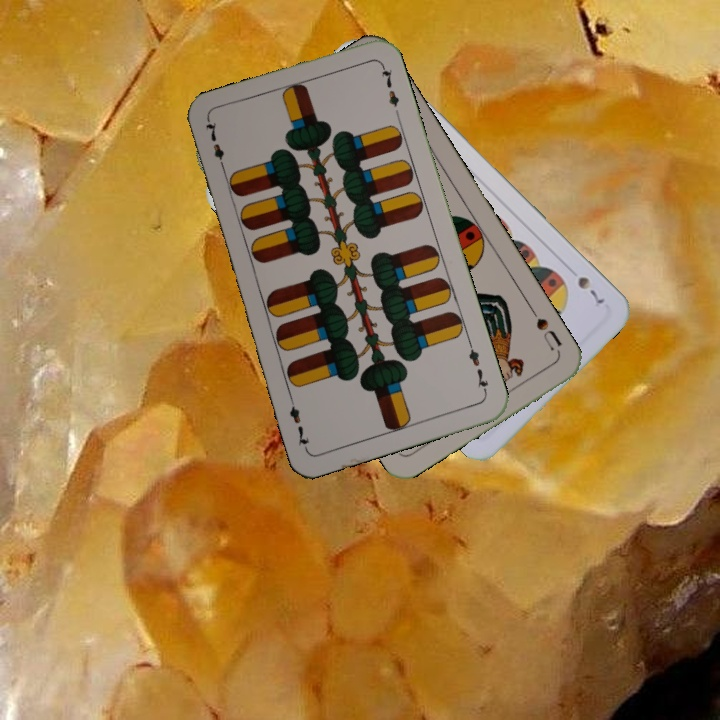E7: (202, 117, 229, 175), (464, 339, 491, 396)
S7: (573, 272, 608, 307)
SU: (525, 303, 564, 356)
